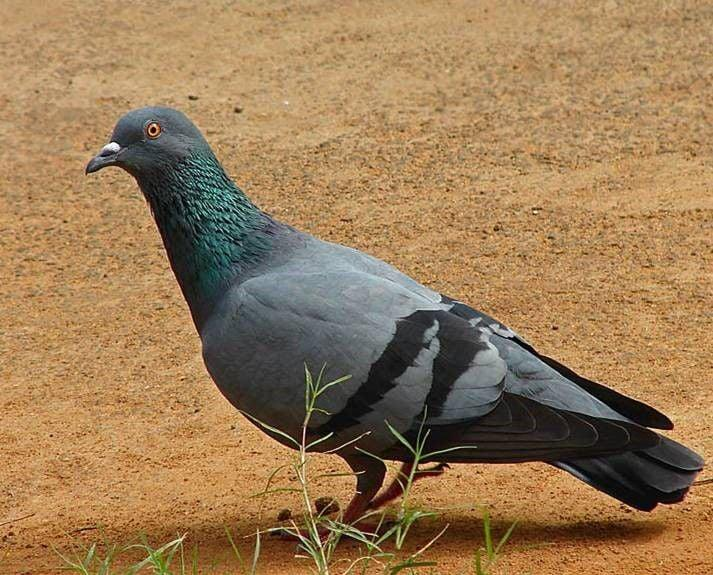Flying Rat: (78, 108, 689, 528)
